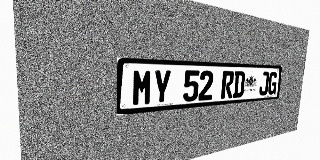2: (198, 70, 214, 101)
5: (183, 70, 200, 102)
D: (232, 71, 245, 98)
G: (267, 72, 278, 95)
J: (259, 72, 270, 96)
M: (132, 69, 153, 106)
R: (221, 71, 234, 99)
Y: (152, 70, 172, 105)
